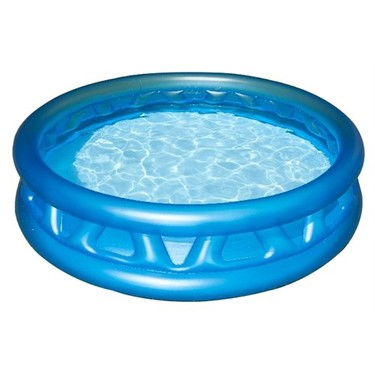havuz: (13, 70, 364, 302)
